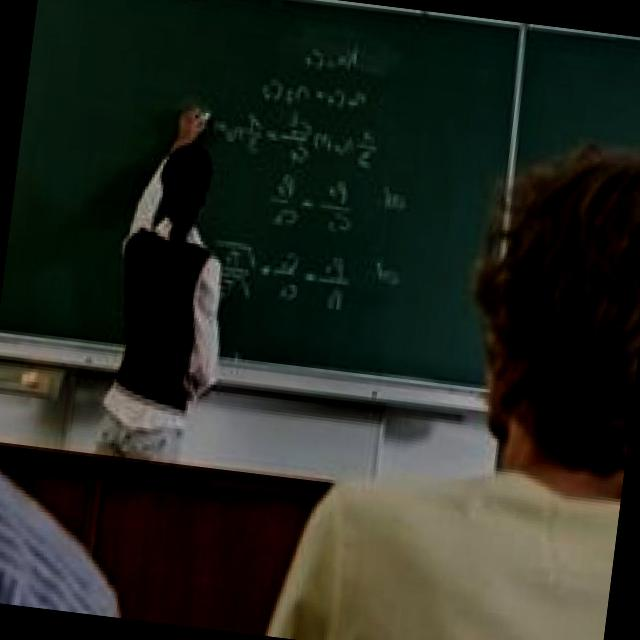no_vest: (252, 421, 624, 640), (86, 221, 242, 438)
